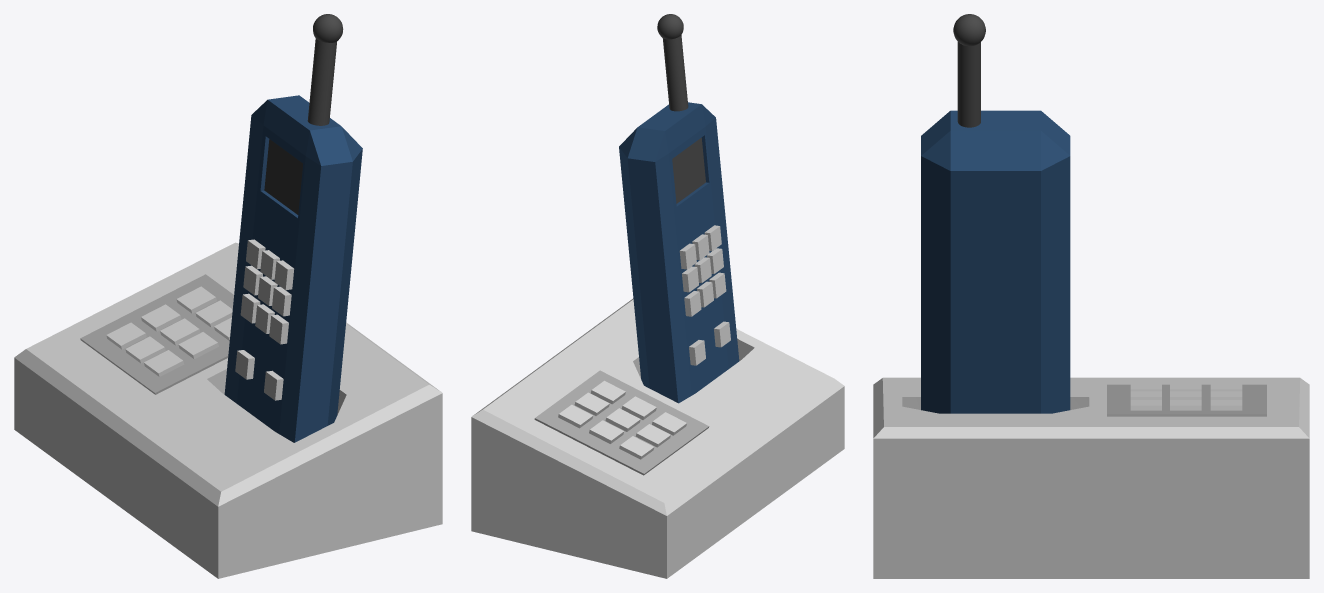
File: phone.fbx
The picture shows the model from 3 angles, left to right: view 1: azimuth 30°, elevation 25°; view 2: azimuth 150°, elevation 25°; view 3: azimuth 270°, elevation 25°; orthographic projection. The views are drawn at different scales.
Visible parts, largest first — view 1: pCube34, polySurface14, pCube35, pCube39, pCube41, pCube40, pCube43, pCube42, pCube36, pCube44, pCube37; view 2: pCube34, polySurface14, pCube35, pCube40, pCube41, pCube39, pCube36, pCube37, pCube44, pCube38, pCube43, pCube42; view 3: pCube34, polySurface14, pCube35.
Part boxes in pixels (x1,y1,x2,y2): pCube34: (14,242,442,578); polySurface14: (224,14,362,442); pCube35: (80,274,233,394); pCube39: (178,332,218,359); pCube41: (141,304,181,331); pCube40: (160,318,200,345); pCube43: (125,336,165,363); pCube42: (106,322,146,349); pCube36: (176,286,216,313); pCube44: (144,350,184,376); pCube37: (195,300,232,327); pCube34: (471,298,844,578); polySurface14: (619,14,739,403); pCube35: (534,370,709,475); pCube40: (605,408,640,431); pCube41: (589,420,623,443); pCube39: (621,396,656,419); pCube36: (558,404,592,428); pCube37: (574,392,609,415); pCube44: (652,412,686,435); pCube38: (590,380,625,404); pCube43: (635,424,670,447); pCube42: (619,436,654,459); pCube34: (873,377,1309,578); polySurface14: (921,14,1070,413); pCube35: (1107,384,1266,416).
Bounding box in the file's own units: 1.13 × 2.36 × 1.77.
